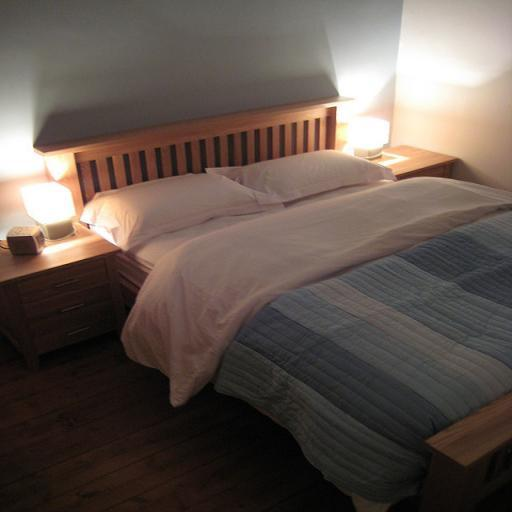bed: (53, 92, 512, 500)
